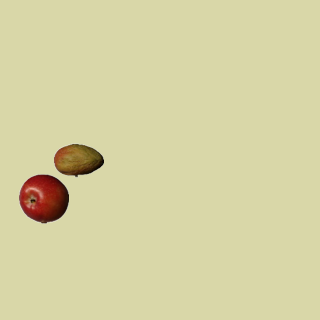Apple Braeburn: (18, 173, 68, 223)
Papaya: (53, 135, 103, 185)
